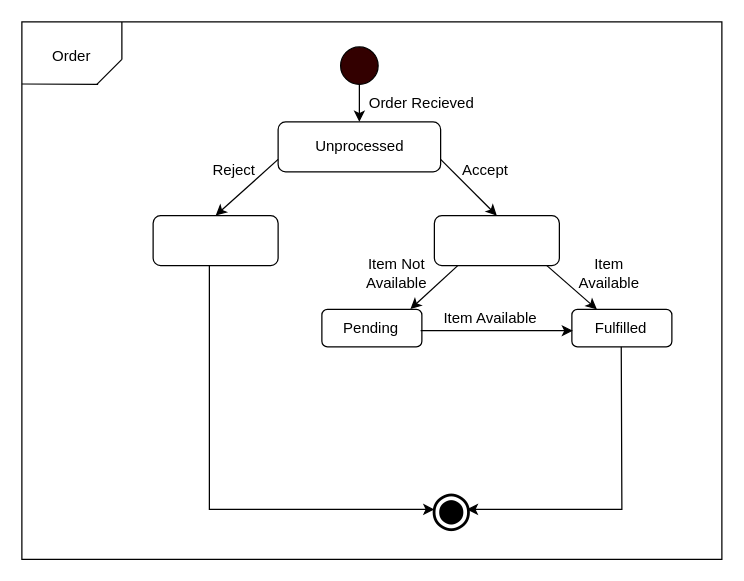
Image size: 744x581. Some labels were removed from this diagram. Here are the shapes that lost their labels. From the top down, the centre of each, then its label:
the point at 215,240: Rejected
the point at 496,240: Accepted
